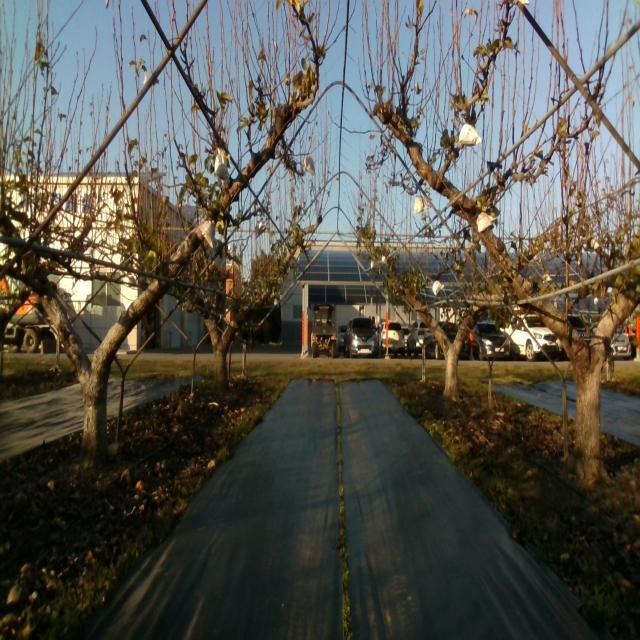pearbags: (458, 124, 482, 147), (200, 218, 216, 248), (476, 212, 496, 235), (215, 147, 228, 181), (255, 219, 267, 238), (304, 156, 315, 176)
